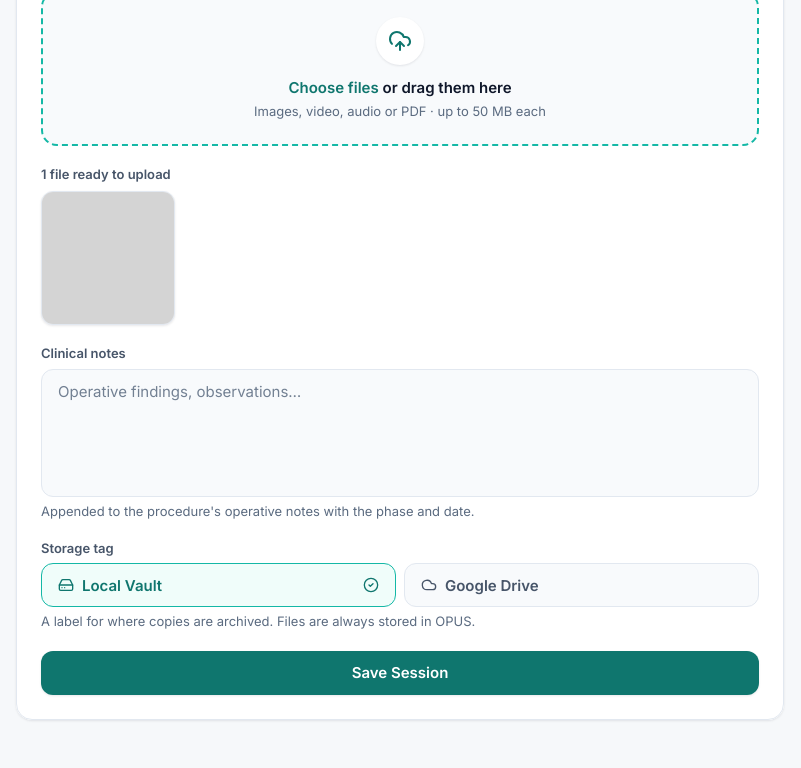
Scenario: UploadMedia › shows upload failures to the user
Earlier steps of the test are not shown.
(page scrolled)
Click the button "Save Session": (400, 673) [41, 651, 759, 695]
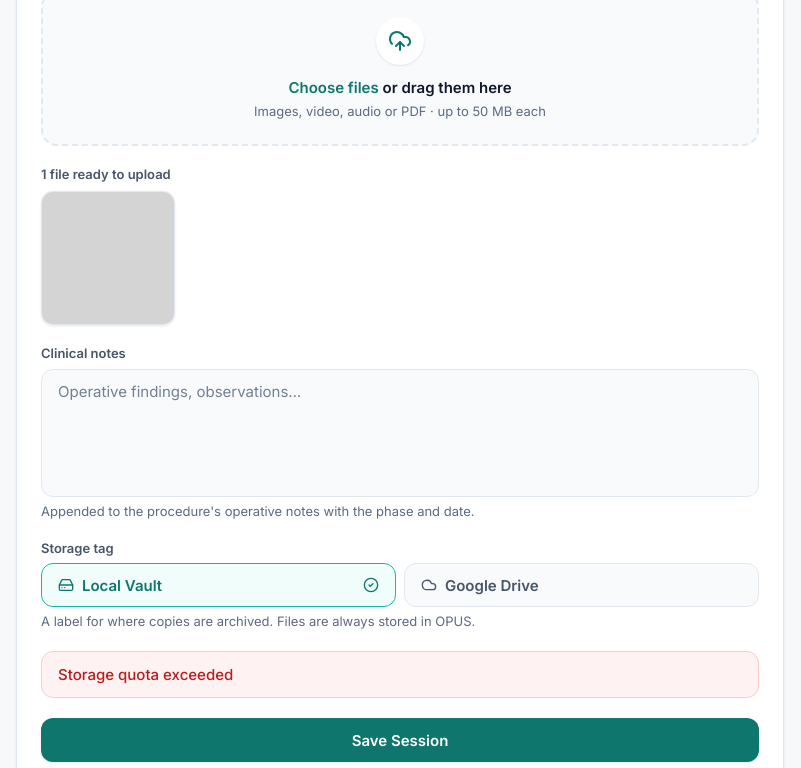
Expected: the message reads "Storage quota exceeded", [58, 665, 233, 684]
